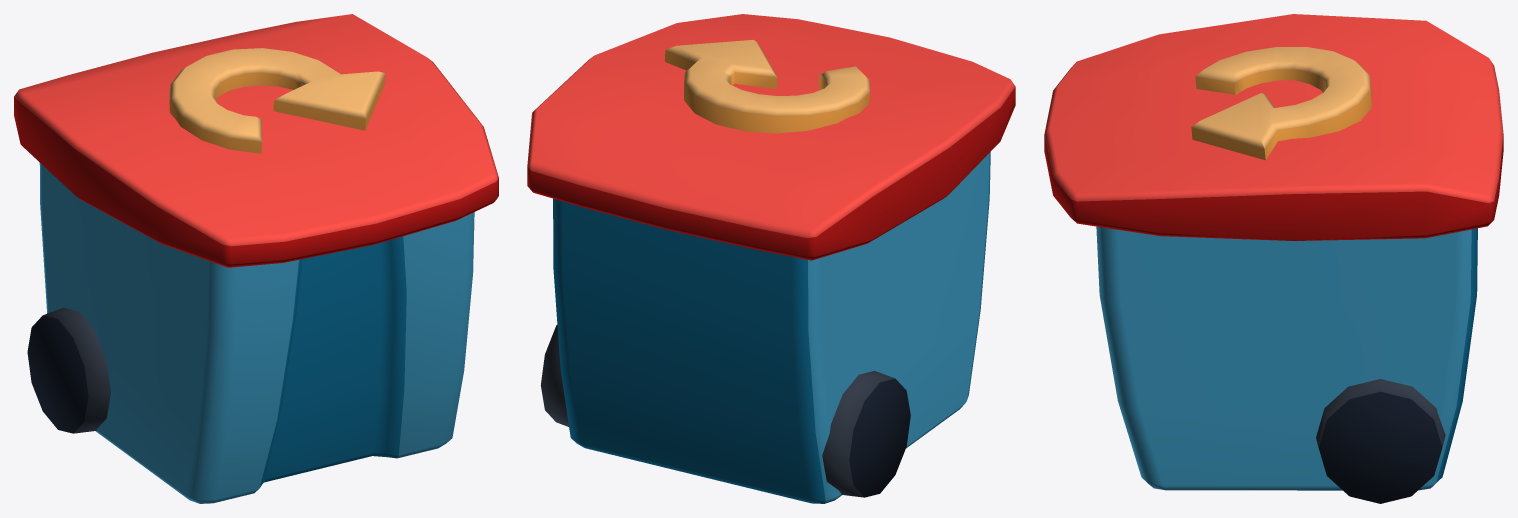
The model's file is Final_trash_big.fbx.
The picture shows the model from 3 angles, left to right: view 1: azimuth 30°, elevation 25°; view 2: azimuth 150°, elevation 25°; view 3: azimuth 270°, elevation 25°; orthographic projection.
Visible parts, largest first — view 1: trash_big; view 2: trash_big; view 3: trash_big.
Part boxes in pixels (x1=…): trash_big: x1=14, y1=14, x2=498, y2=503; trash_big: x1=527, y1=14, x2=1015, y2=503; trash_big: x1=1044, y1=14, x2=1503, y2=503.
Bounding box in the file's own units: 102 × 95.33 × 112.
